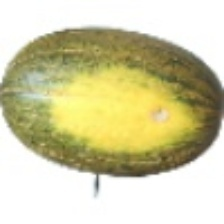honeydew: (25, 64, 164, 200)
